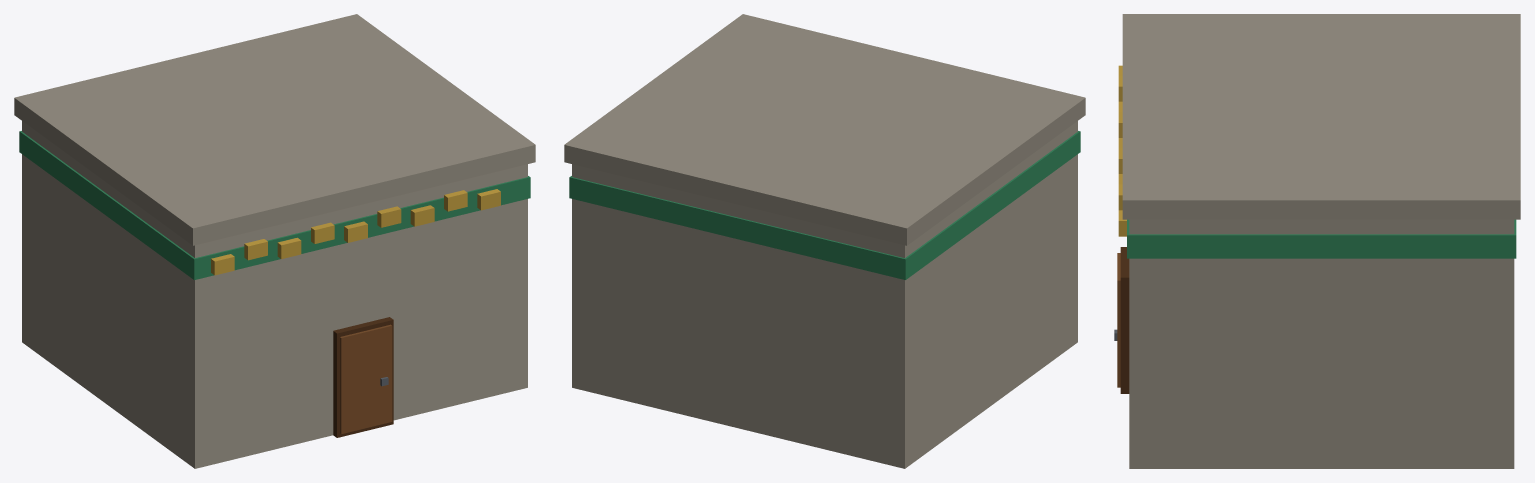
The model's file is frog_house_a.glb.
3 views of the same model, side by side, from view 1: azimuth 30°, elevation 25°; view 2: azimuth 150°, elevation 25°; view 3: azimuth 270°, elevation 25° (orthographic). The views are drawn at different scales.
Visible parts, largest first — view 1: frog_house_a; view 2: frog_house_a; view 3: frog_house_a.
Boxes of the visible parts, x1,y1,x2,y2 form: frog_house_a: (14, 14, 535, 468); frog_house_a: (564, 14, 1085, 468); frog_house_a: (1114, 14, 1520, 468).
Size of the model in its own units: 2.06 by 1.4 by 1.9.
